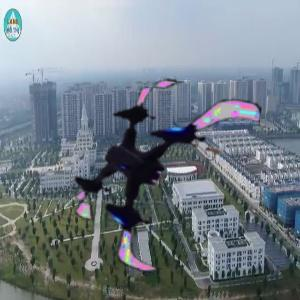drone: (51, 74, 254, 277)
